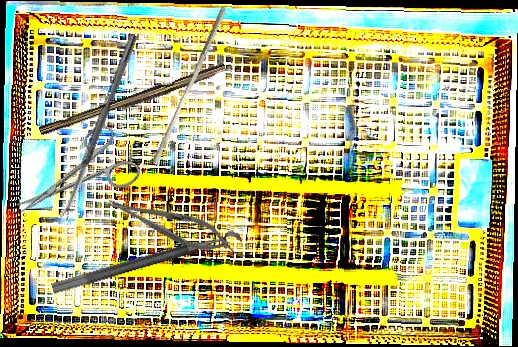Fixation Ring: (50, 228, 247, 311)
Iris Scissors: (0, 118, 145, 237)
Needle Holder: (103, 187, 234, 260)
Pusher: (150, 3, 228, 168)
Scalpel Handle: (38, 59, 228, 142)
Surgical Spoon: (58, 33, 138, 222)
